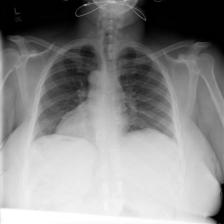normal: (29, 35, 180, 155)
